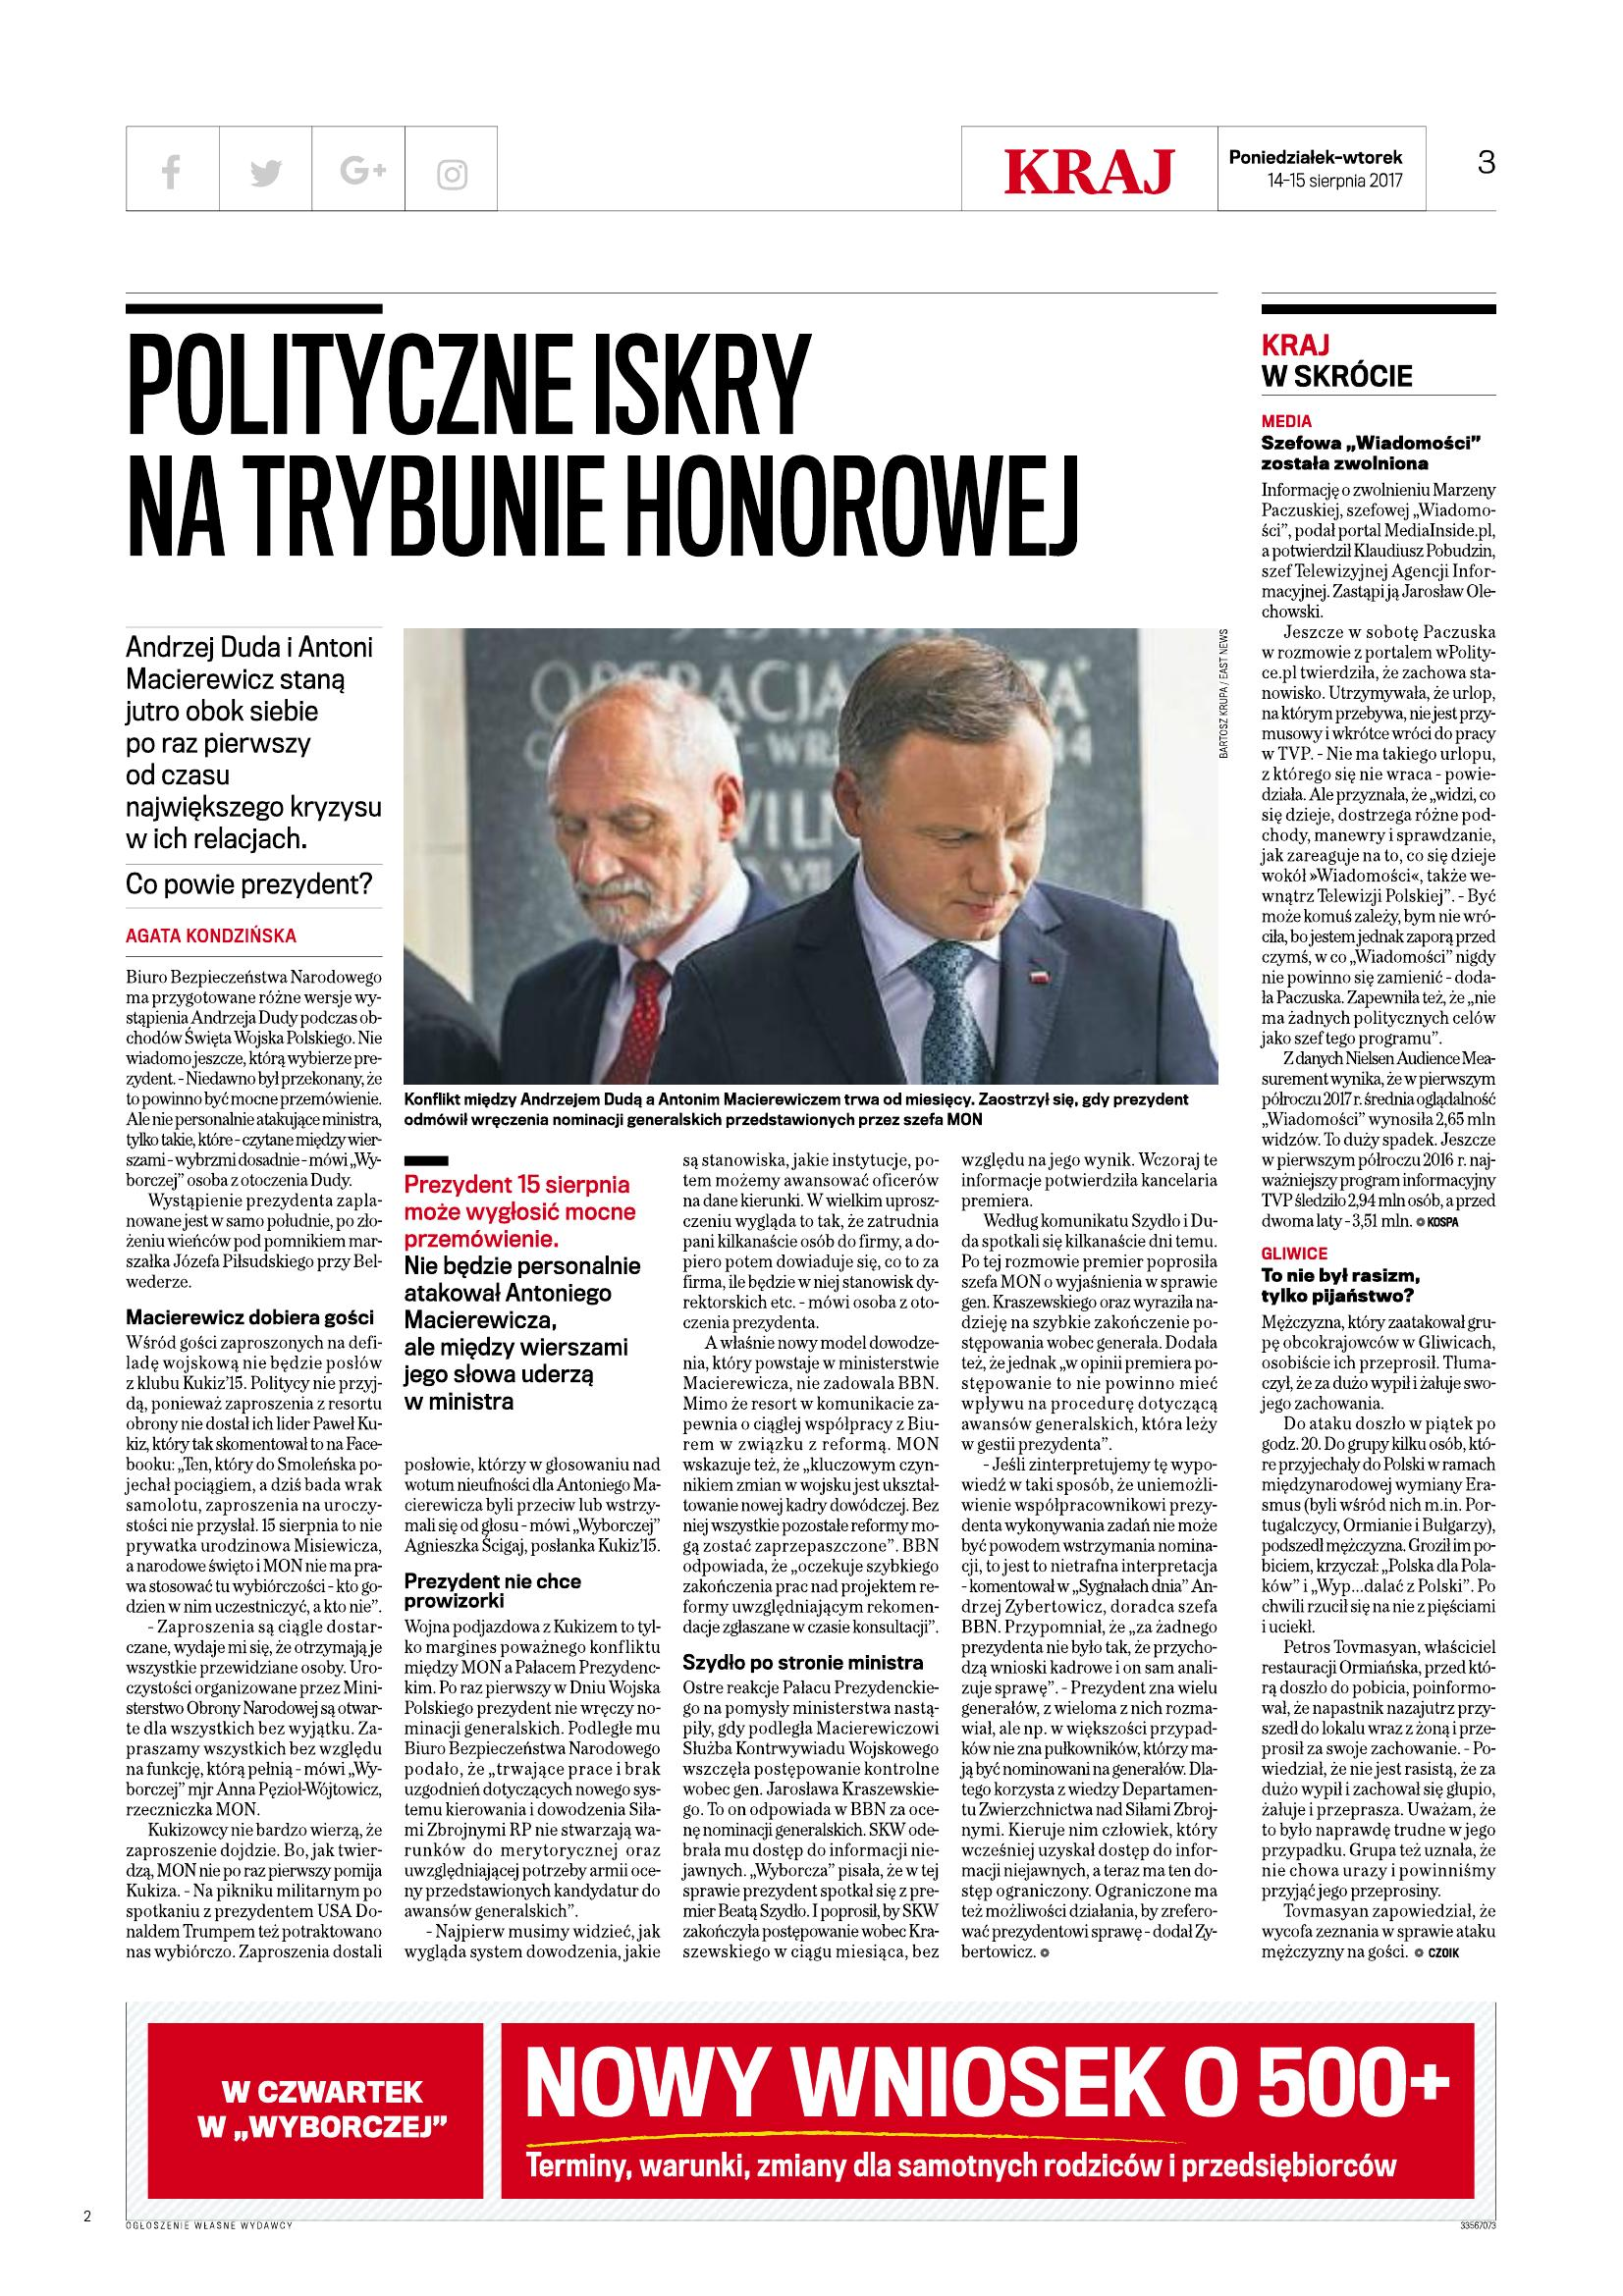article: (116, 283, 1235, 1973), (1254, 279, 1519, 1978)
